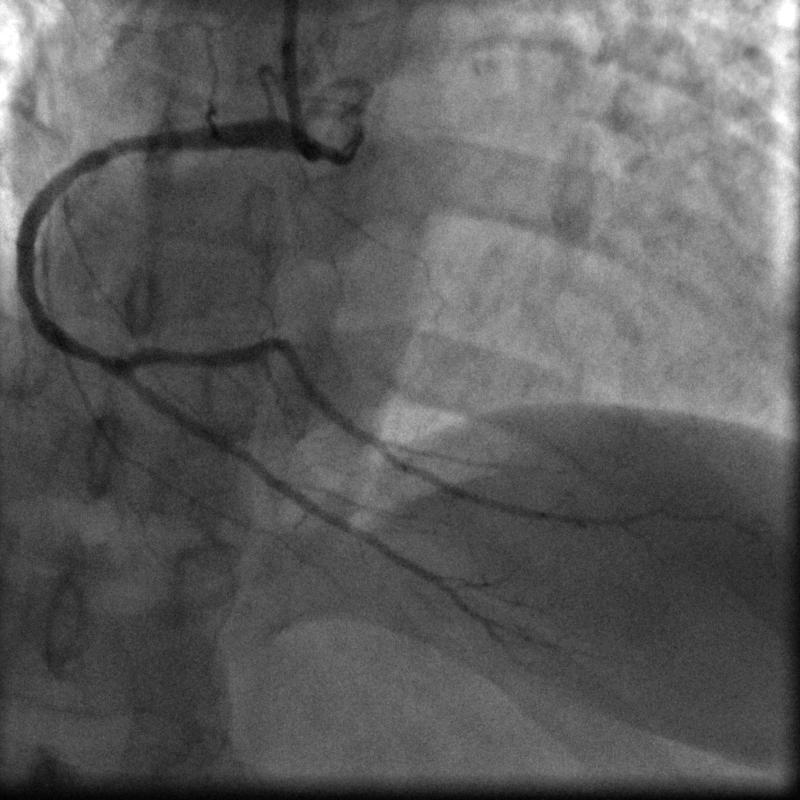Stenosis: (79, 340, 118, 379)
